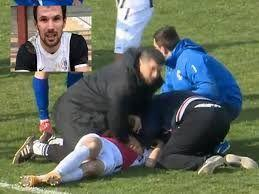Fall-Detected: (11, 111, 162, 186)
